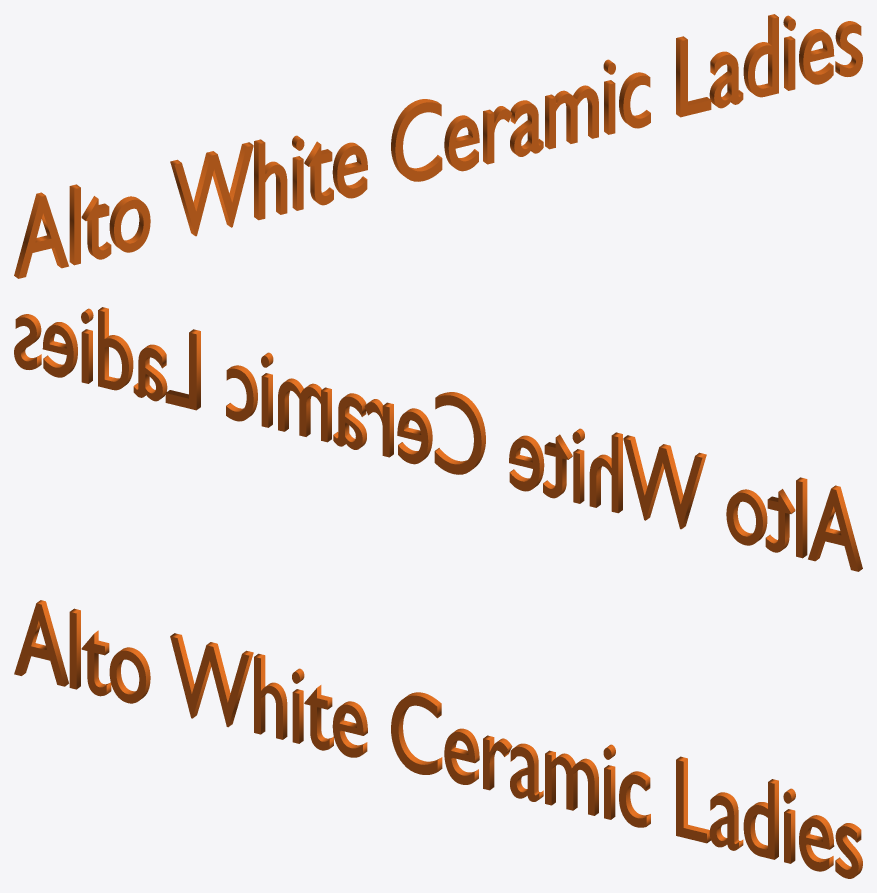
3 renders of one model, top to bottom at view 1: azimuth 30°, elevation 25°; view 2: azimuth 150°, elevation 25°; view 3: azimuth 330°, elevation 25°, orthographic.
Parts seen in each view (by area): view 1: Text; view 2: Text; view 3: Text.
Boxes of the visible parts, bbox=[...] form: Text: bbox=[14, 14, 862, 278]; Text: bbox=[14, 307, 862, 571]; Text: bbox=[14, 600, 862, 878].
Size of the model in its own units: 11.09 by 0.98 by 0.1.
